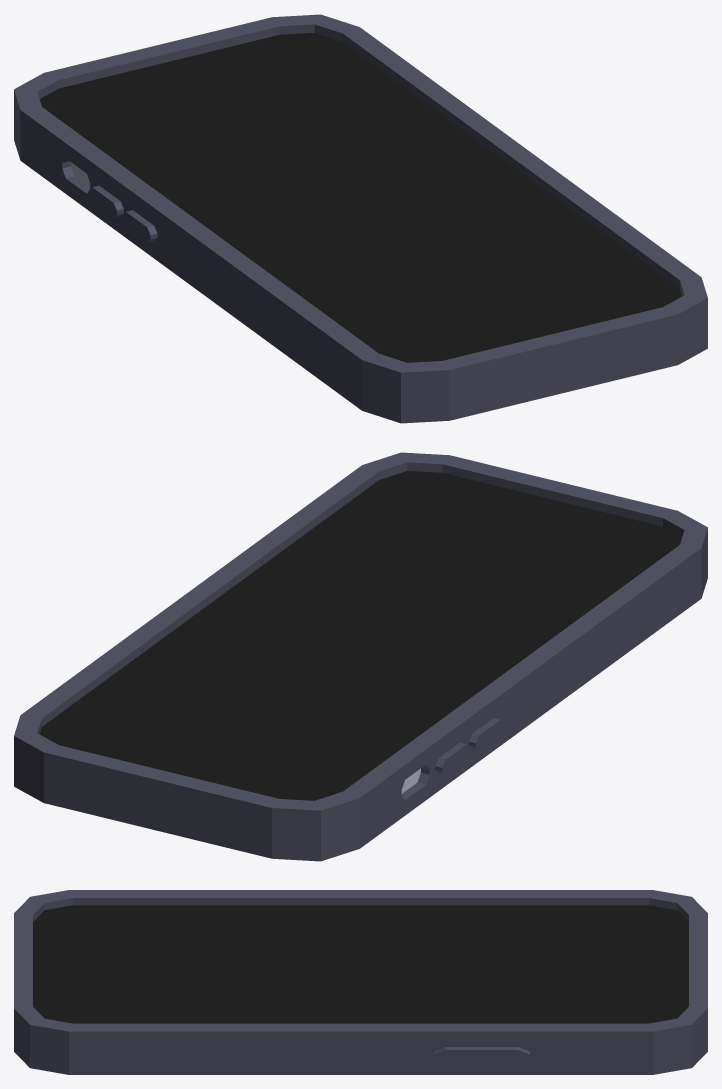
Rendered from Cellphone_01.fbx.
3 views of the same model, one above another, from view 1: azimuth 30°, elevation 25°; view 2: azimuth 150°, elevation 25°; view 3: azimuth 270°, elevation 25° (orthographic). The views are drawn at different scales.
Visible parts, largest first — view 1: Cellphone_01; view 2: Cellphone_01; view 3: Cellphone_01.
Boxes of the visible parts, left/top/right/bottom form: Cellphone_01: left=14, top=14, right=707, bottom=423; Cellphone_01: left=14, top=452, right=707, bottom=861; Cellphone_01: left=14, top=890, right=707, bottom=1074.
Bounding box in the file's own units: 7.29 × 1 × 14.5.
